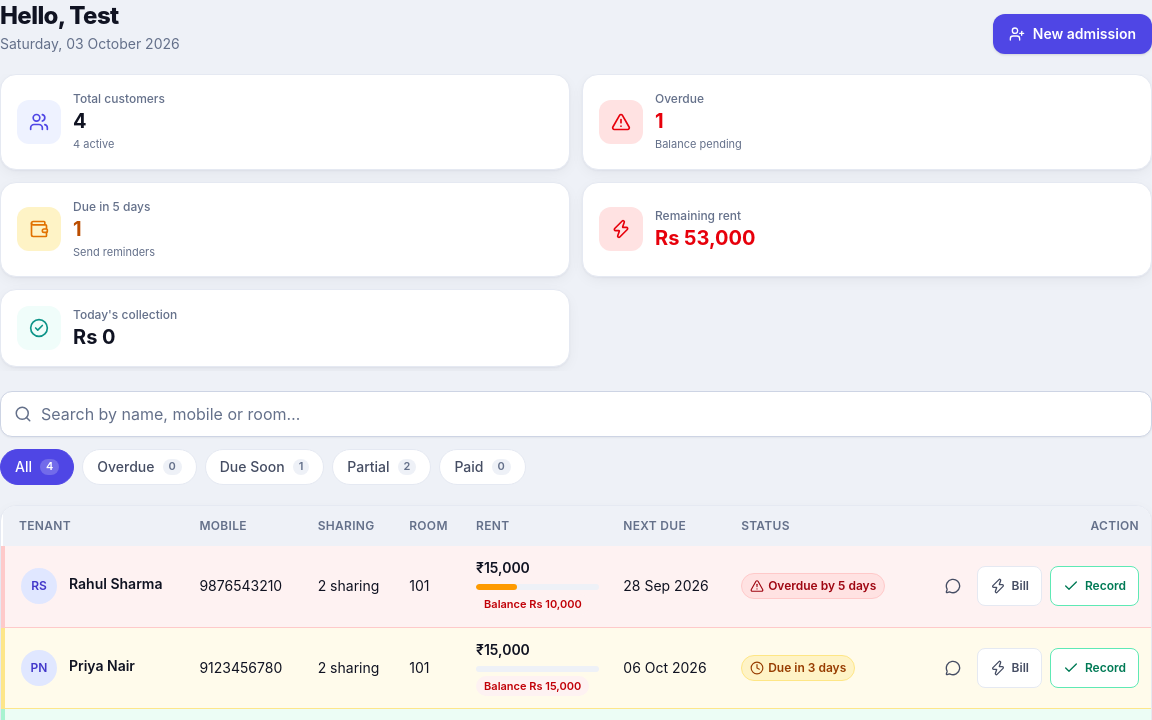
Scenario: Dashboard › filters with the chips and searches by name or mobile
The width and height of the screenshot is (1152, 720).
Click the button "Overdue 0". click: (140, 467)
box: [82,449,197,485]
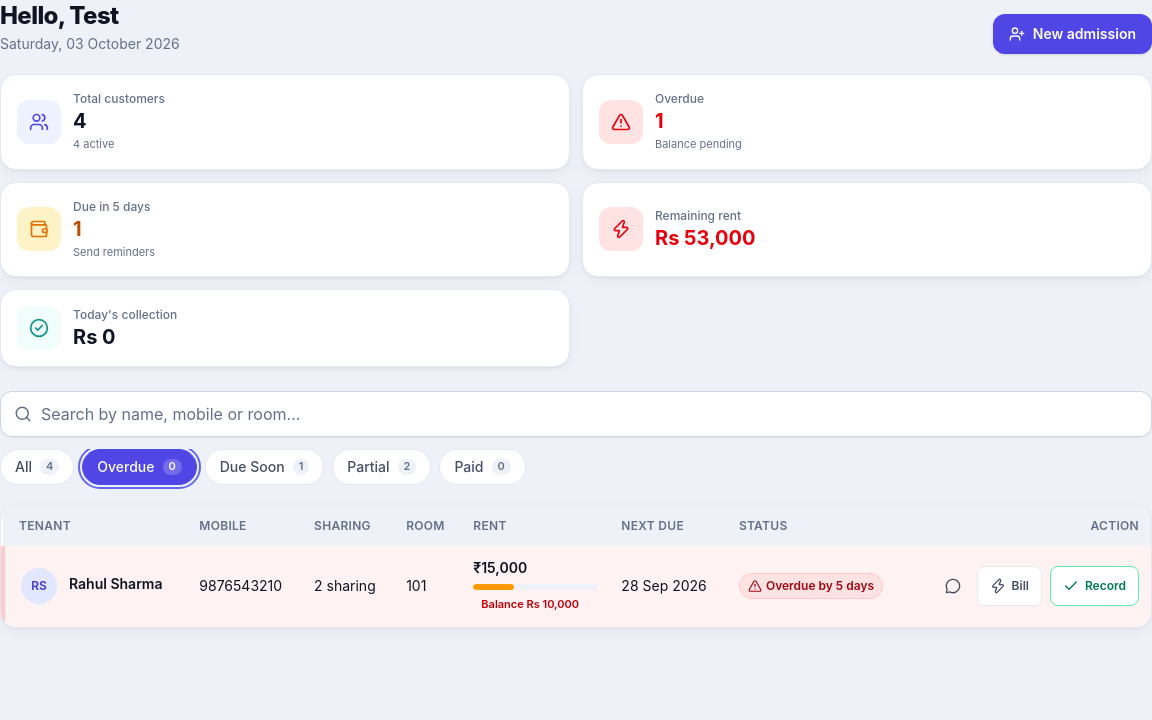
expect the text "Priya Nair" is gone: met
Click the button "Partial 2". click: (382, 467)
box: [332,449,432,485]
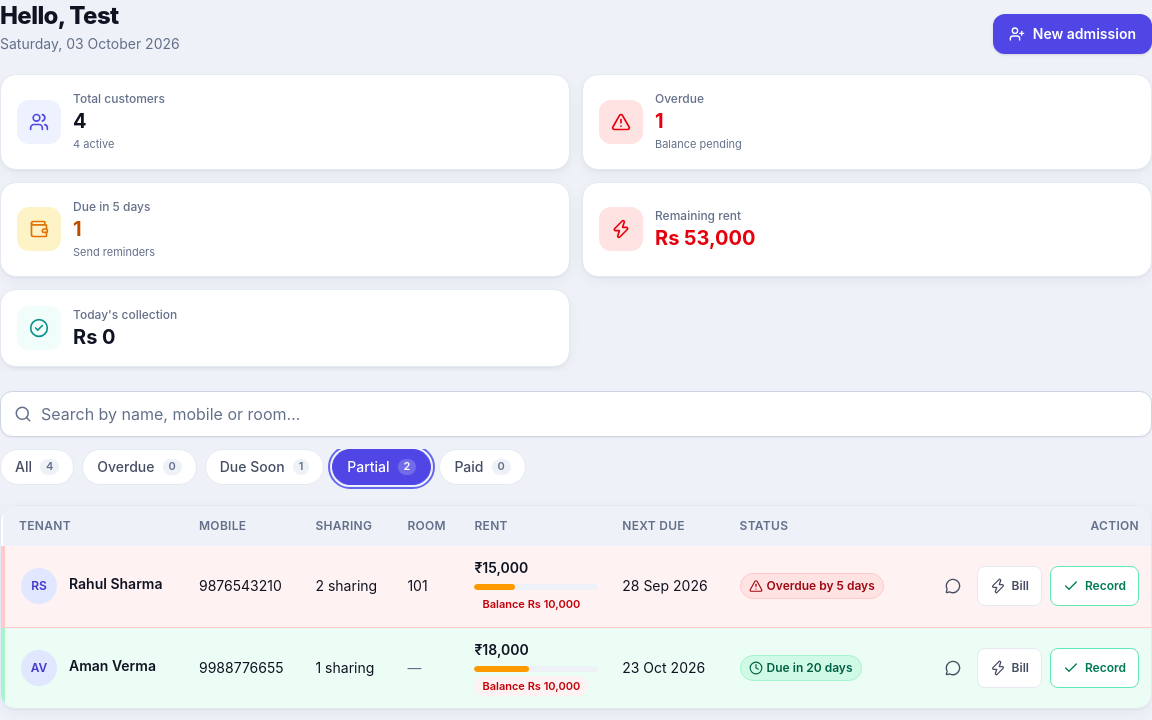
expect the text "Priya Nair" is not shown: met
Click the button "All 4". click: (37, 467)
box: [0,449,74,485]
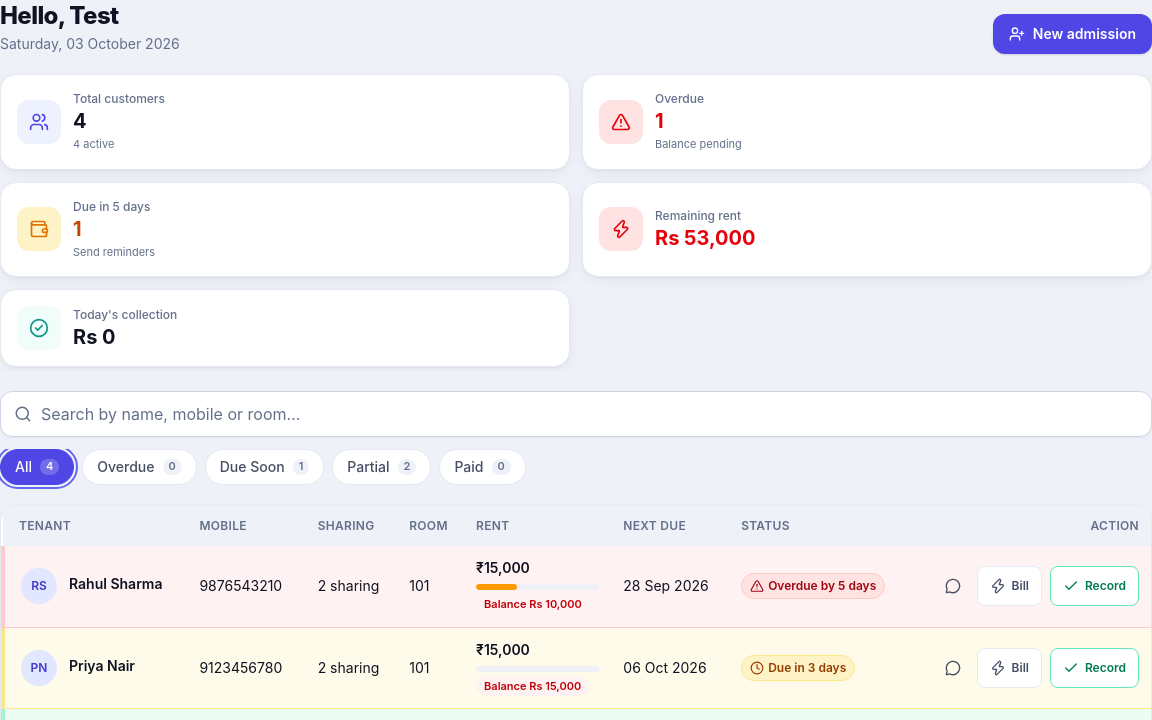
Type "9123456780" into the search field named "Search tenants". click: (576, 414)
box: [0,391,1151,437]
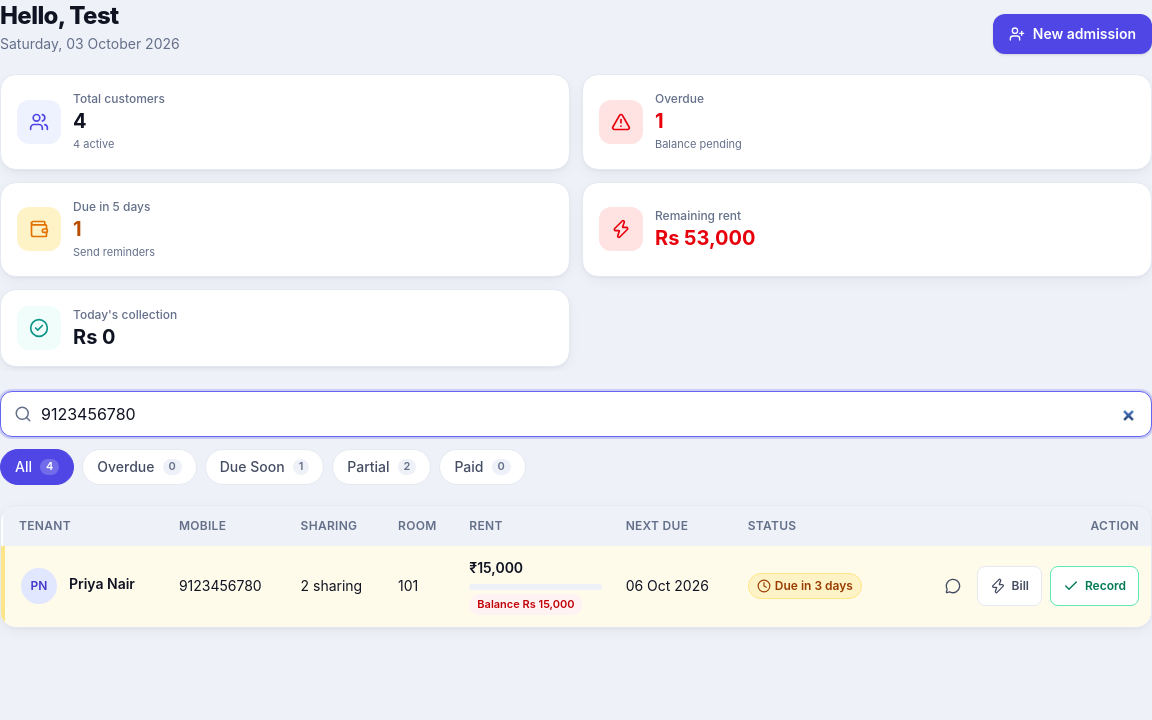
expect the text "Rahul Sharma" is gone: met
